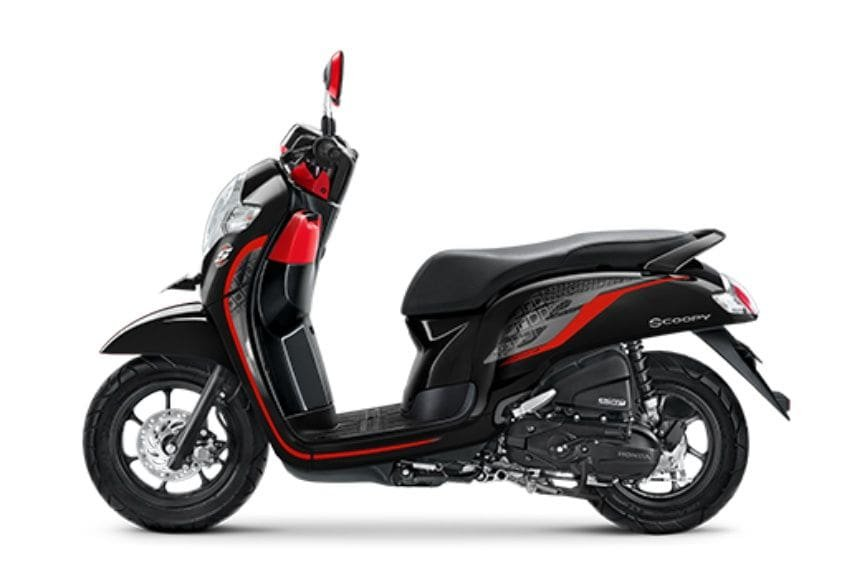motor: (114, 130, 760, 540)
